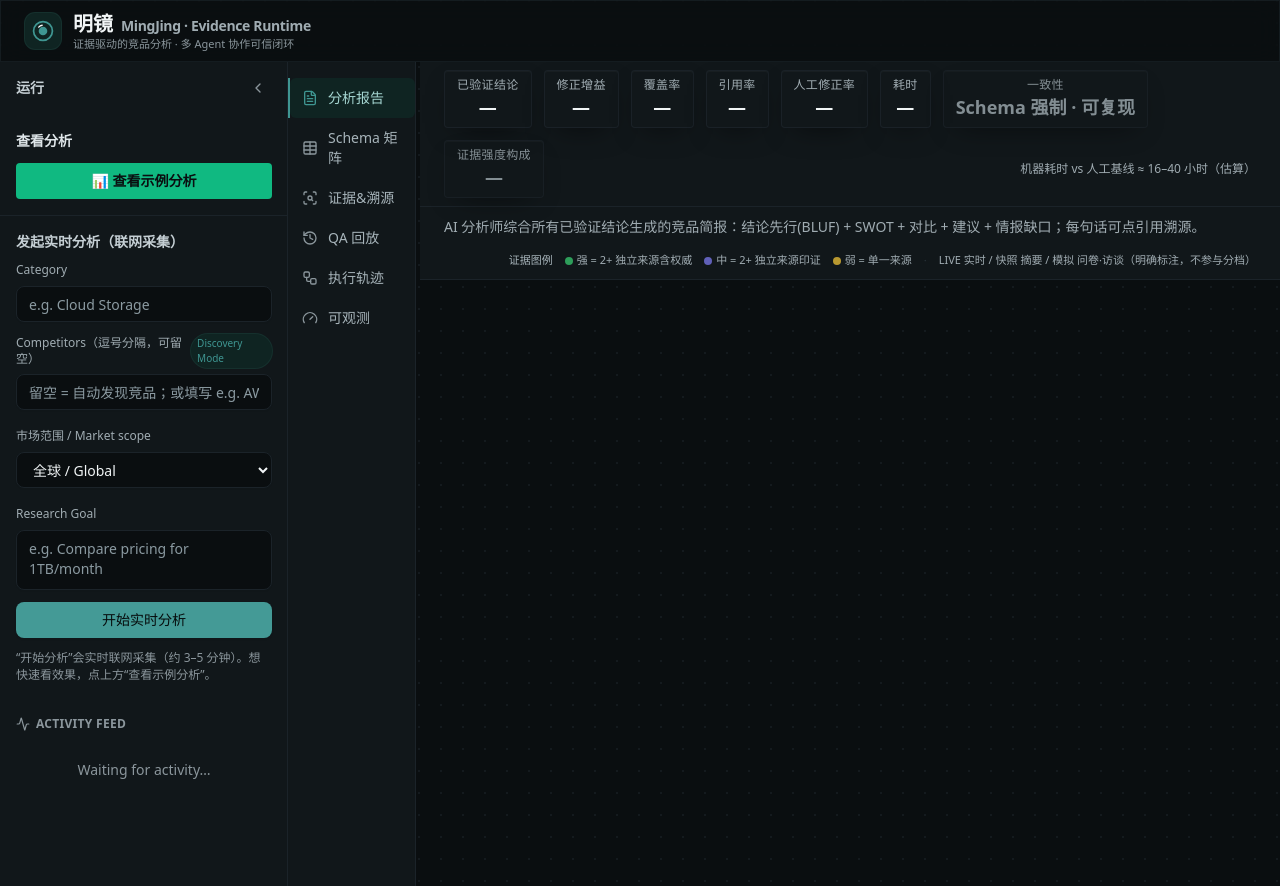
Scenario: App nav › clicking 执行轨迹 shows the ExecutionTrace empty-state
The width and height of the screenshot is (1280, 886).
Click the button with test id "nav-trace".
click(352, 278)  # box top-left (288, 258), bottom-right (415, 298)
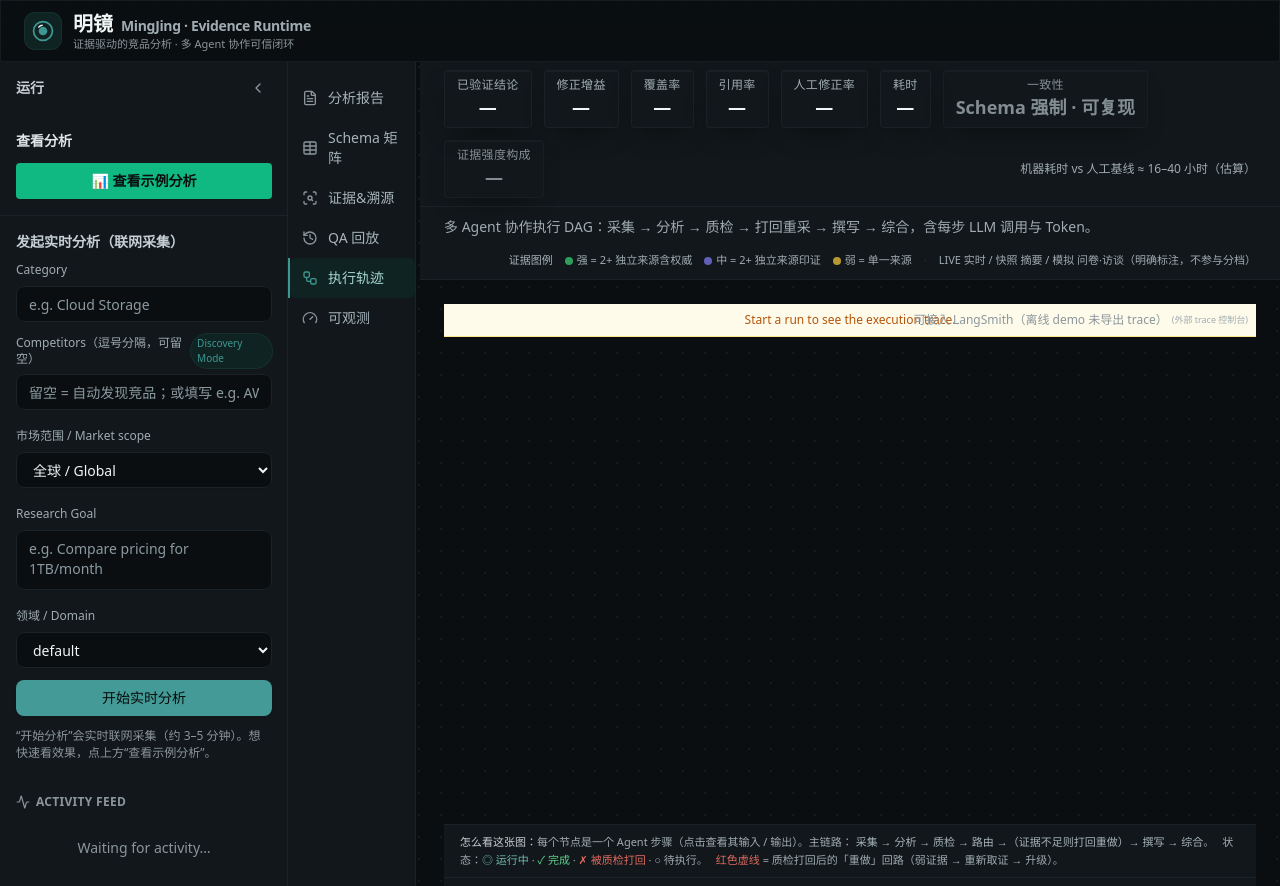
Expected: the text "Start a run to see the execution trace." is shown, top-left (444, 304), bottom-right (1256, 337)
